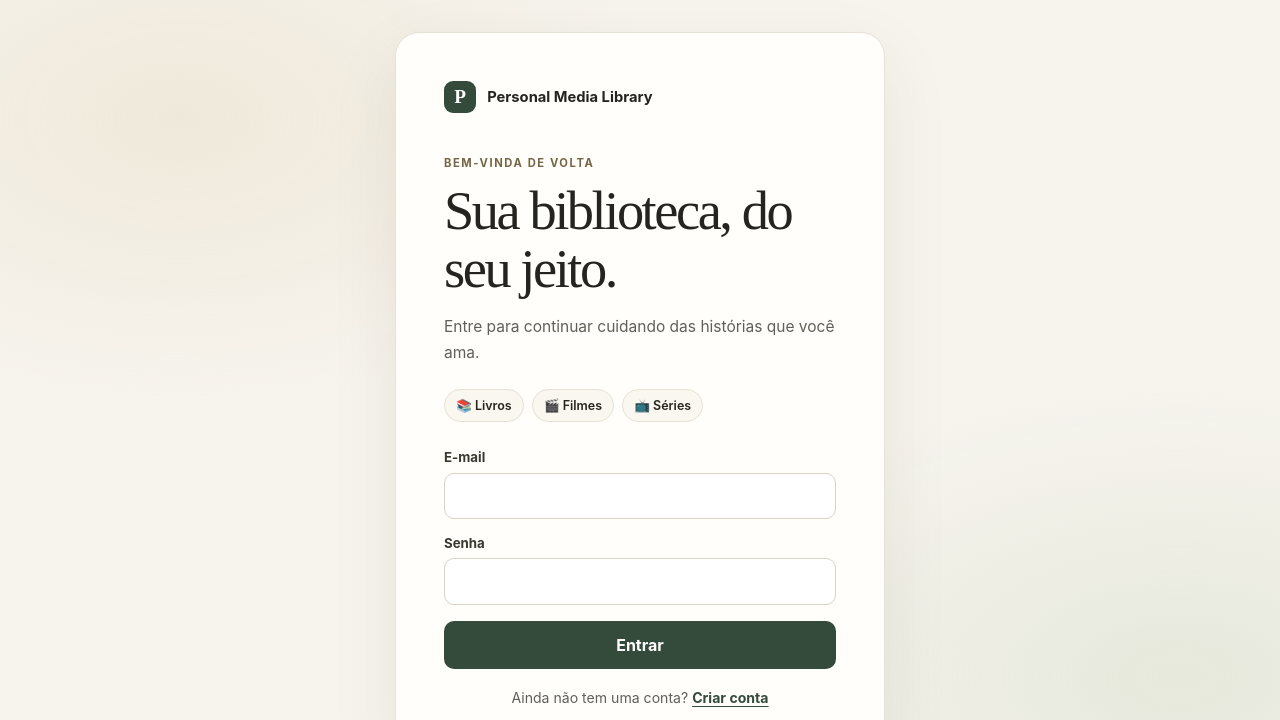
Test: cenario1_cadastroComFavoritos › envia os dados previstos e orienta a pessoa a entrar após o cadastro
Click the button "Criar conta": (730, 698) x1=692 y1=689 x2=768 y2=706
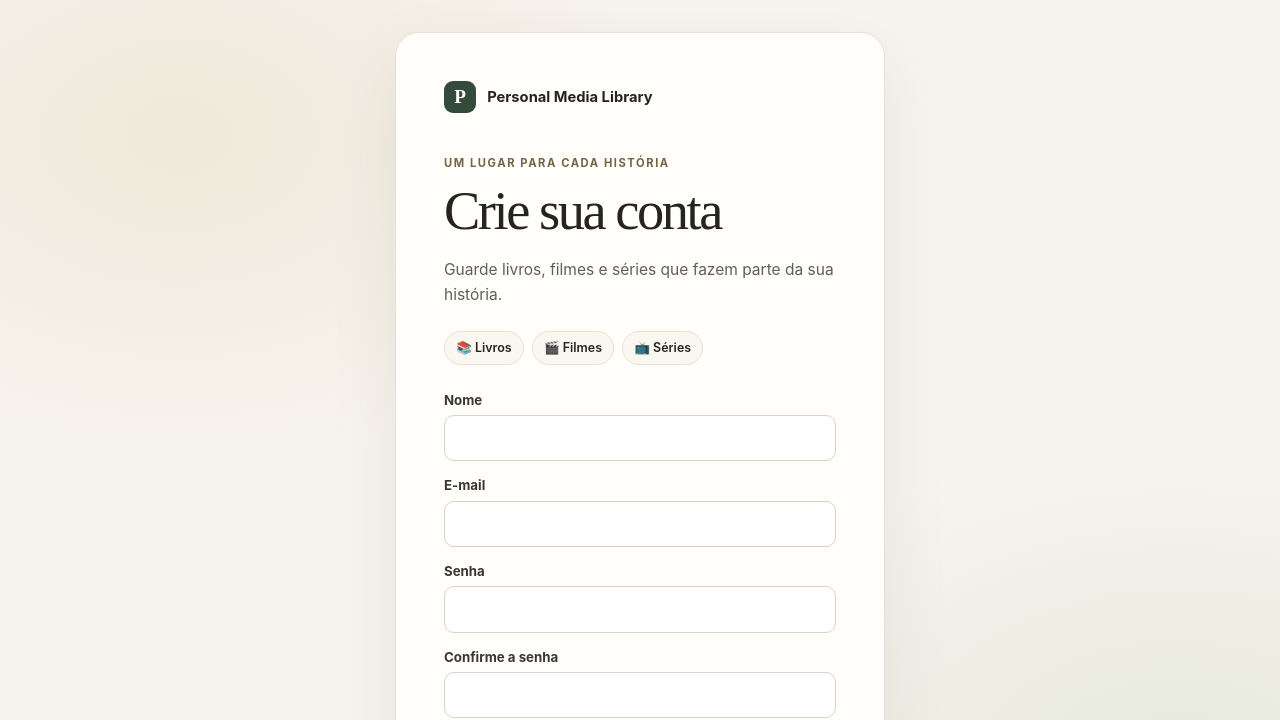
In the field labelled "Nome": (640, 438) x1=444 y1=415 x2=836 y2=461, type "Maria Silva"
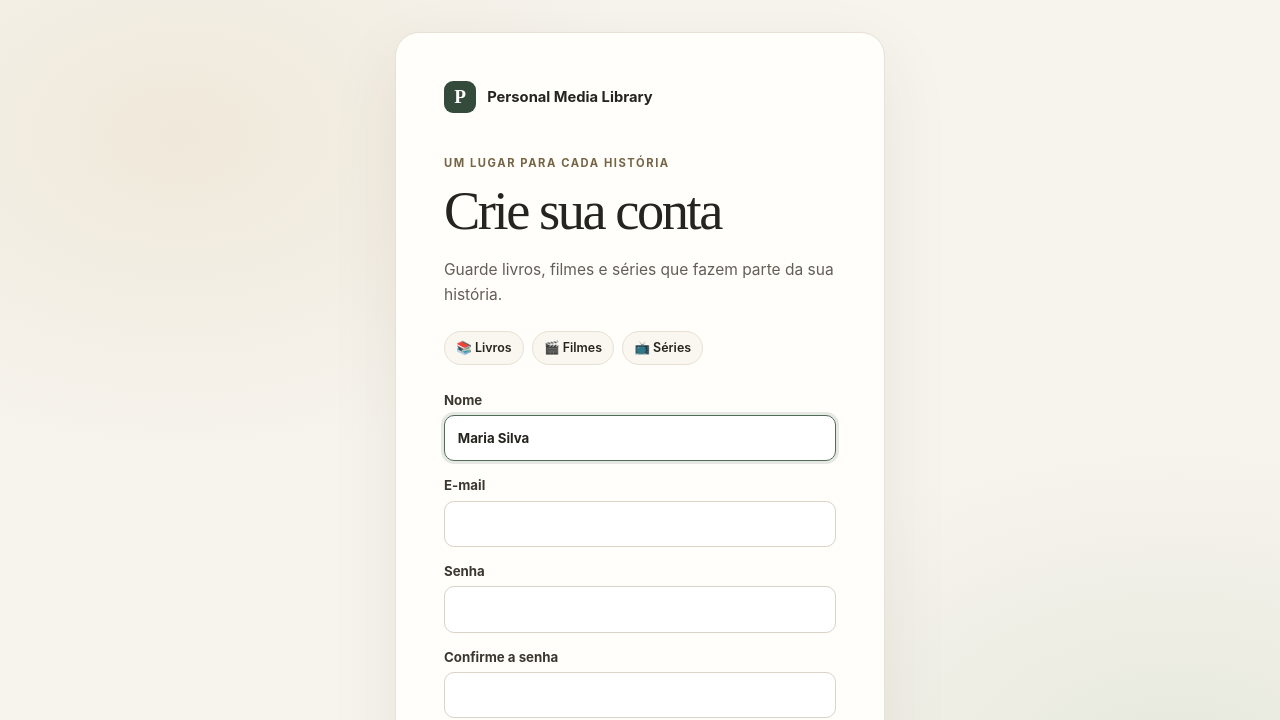
In the field labelled "E-mail": (640, 524) x1=444 y1=501 x2=836 y2=547, type "maria@example.com"
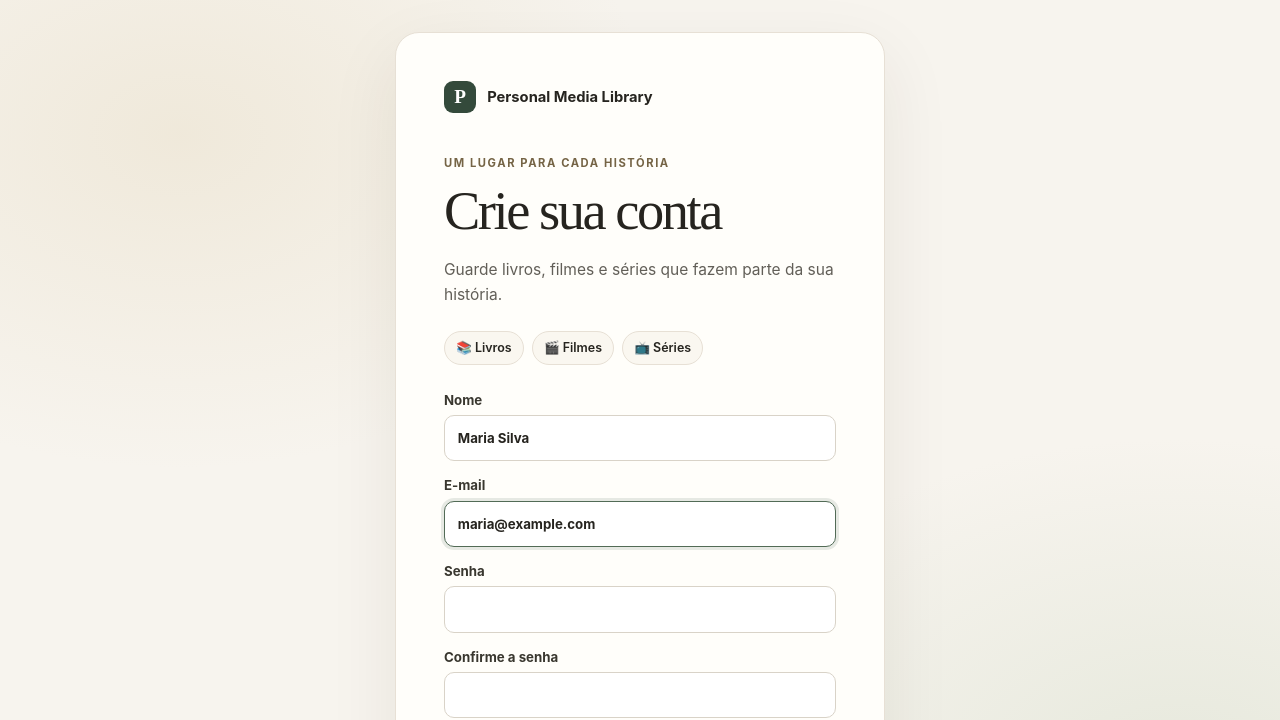
In the password field labelled "Senha": (640, 609) x1=444 y1=586 x2=836 y2=633, type "senha-segura-123"
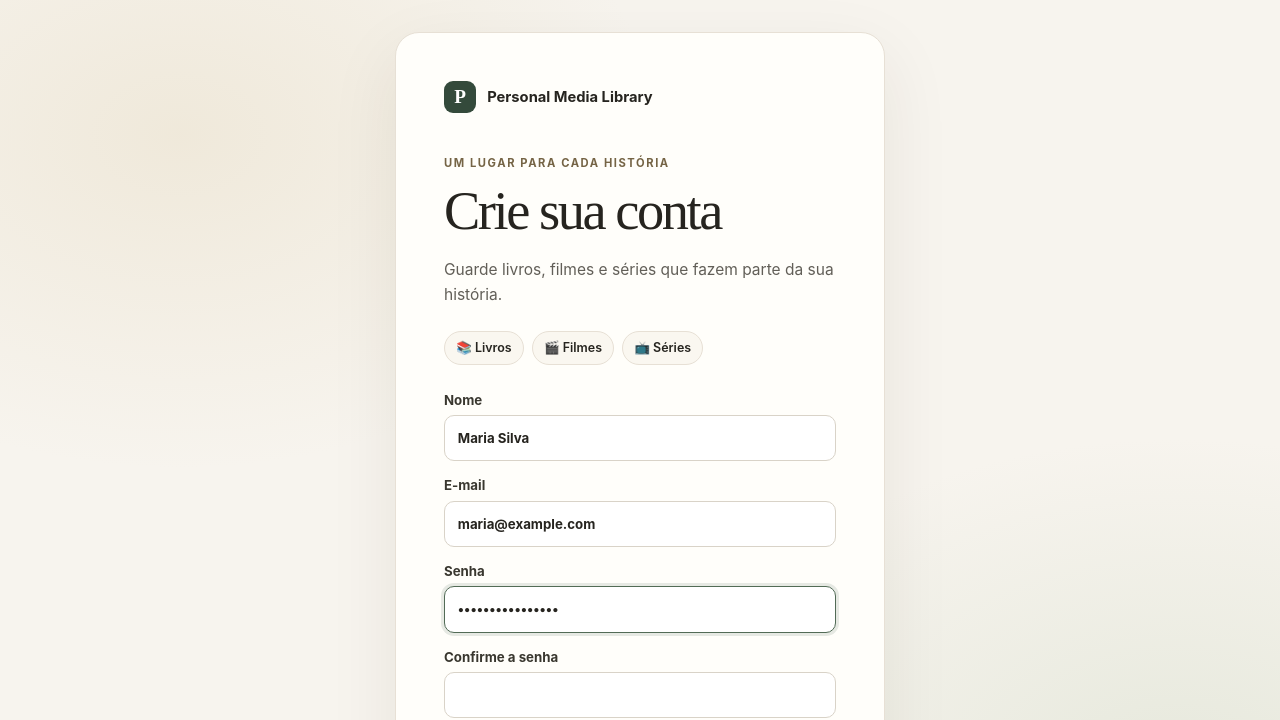
In the password field labelled "Confirme a senha": (640, 695) x1=444 y1=672 x2=836 y2=718, type "senha-segura-123"
(page scrolled)
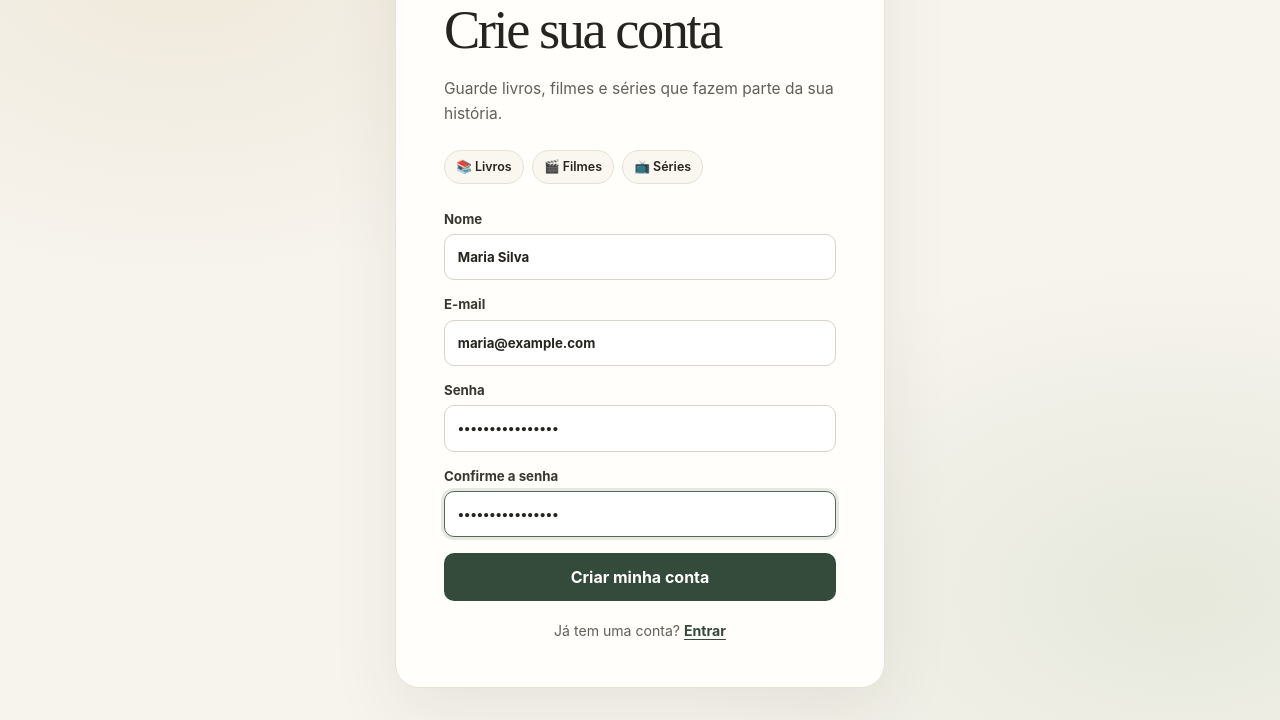
Click the button "Criar minha conta": (640, 577) x1=444 y1=553 x2=836 y2=601
(page scrolled)
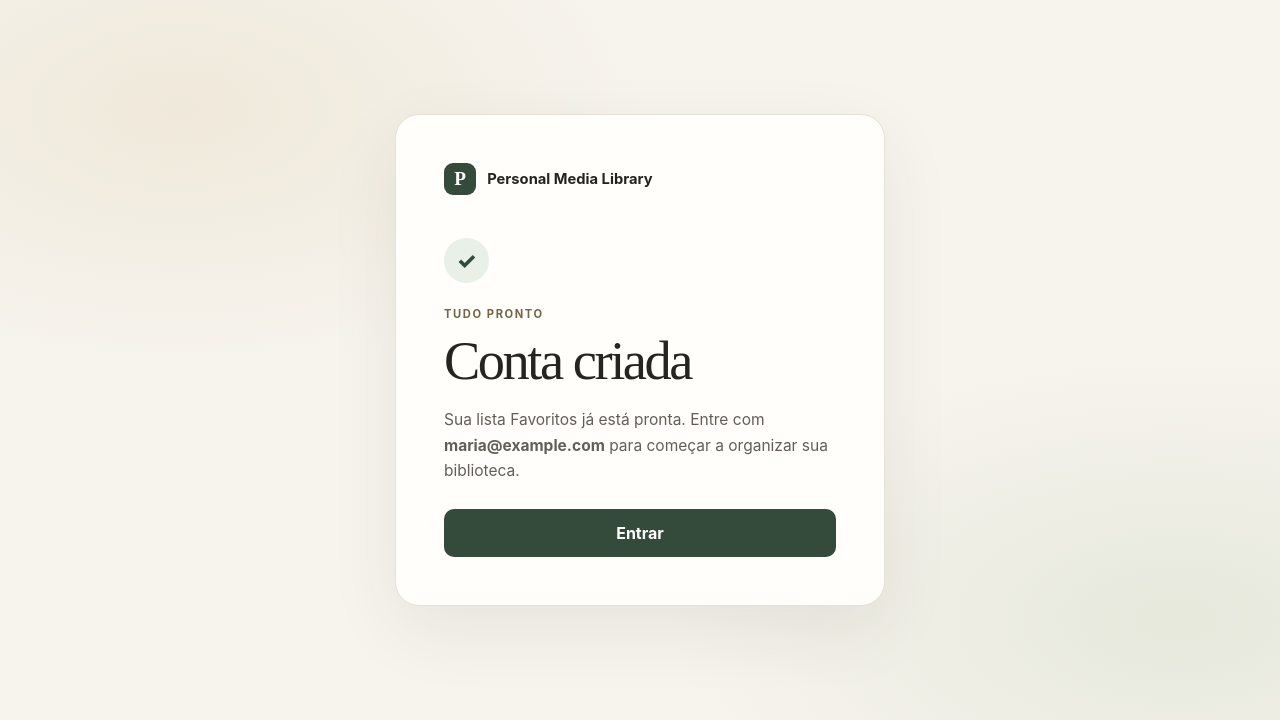
expect the heading "Conta criada" is shown: met, box x1=444 y1=333 x2=691 y2=391
expect the text "lista Favoritos" is shown: met, box x1=444 y1=410 x2=764 y2=429
expect the button "Entrar" is shown: met, box x1=444 y1=509 x2=836 y2=557
